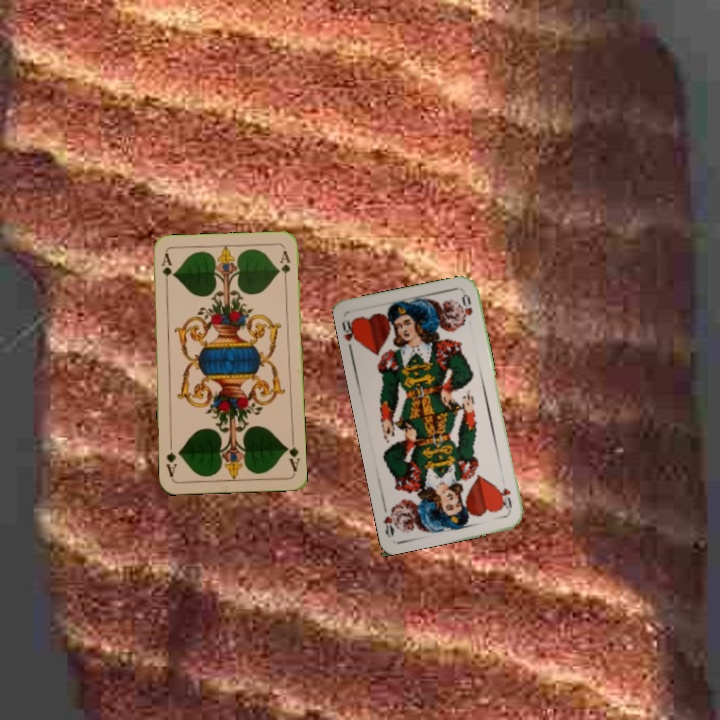GA: (282, 434, 302, 474), (157, 250, 174, 290)
HO: (338, 314, 362, 355), (495, 483, 515, 515)
